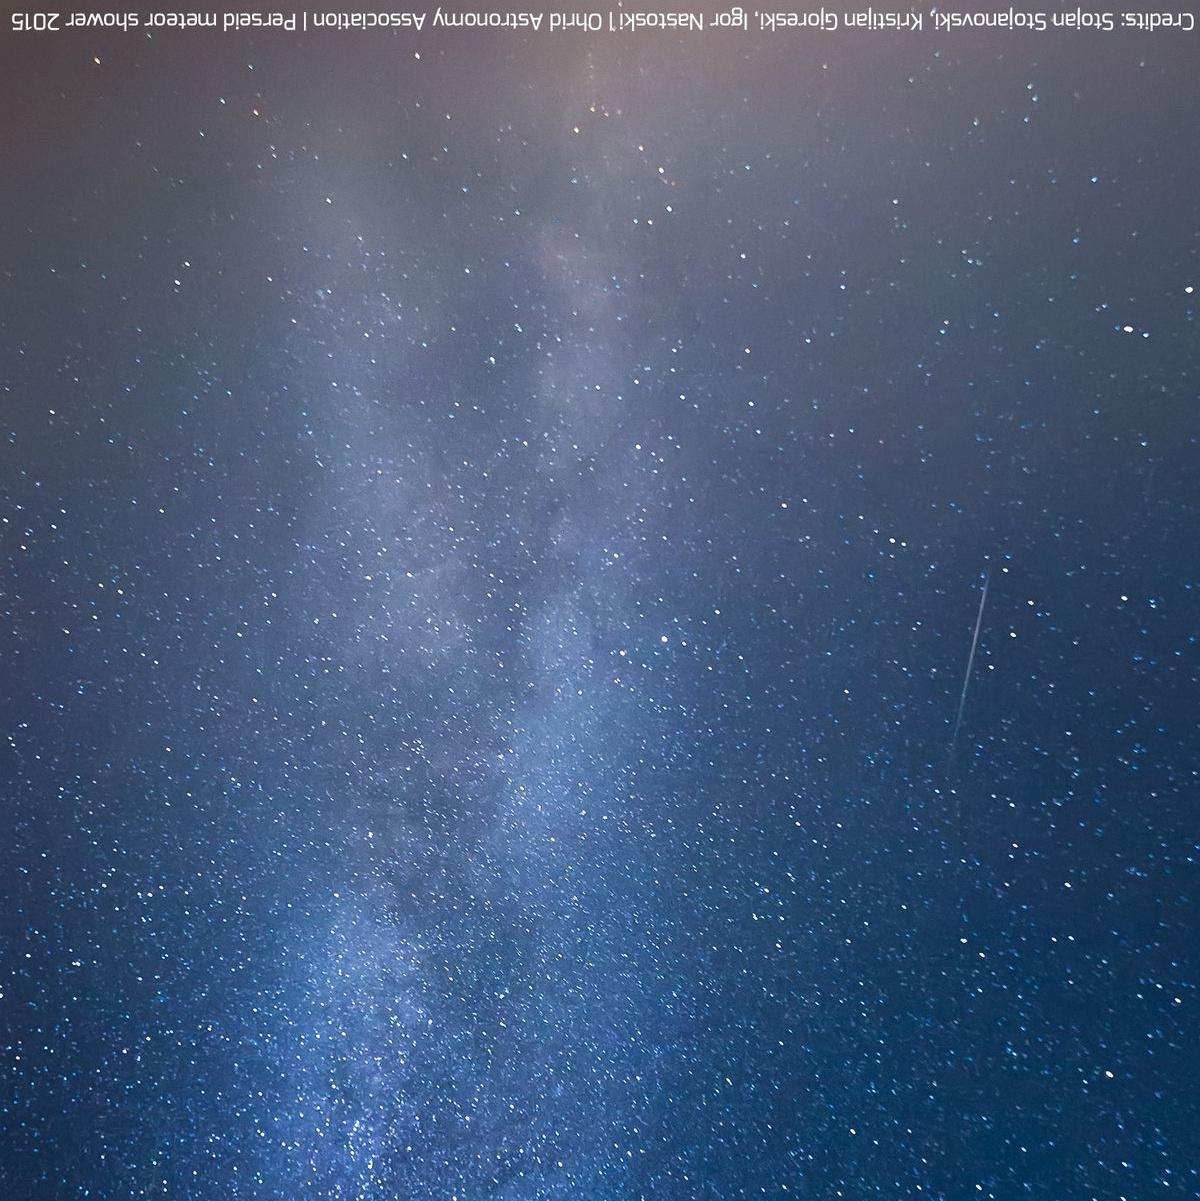meteorite: (943, 560, 1008, 748)
